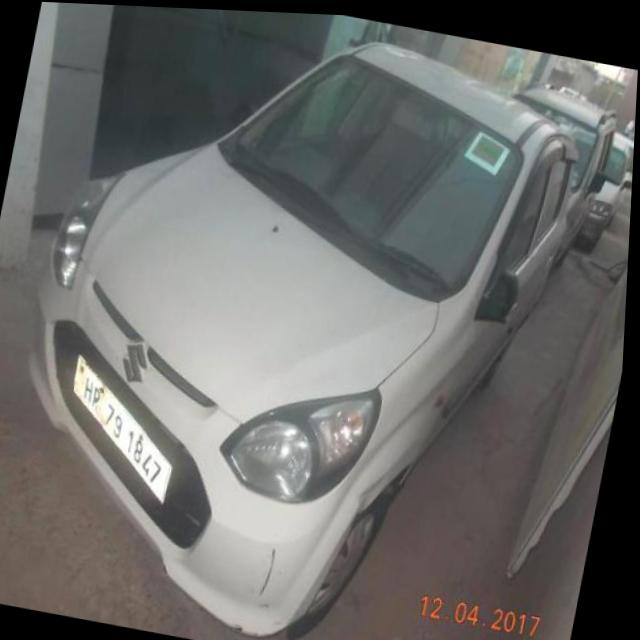Car-Damage: (256, 536, 291, 613)
